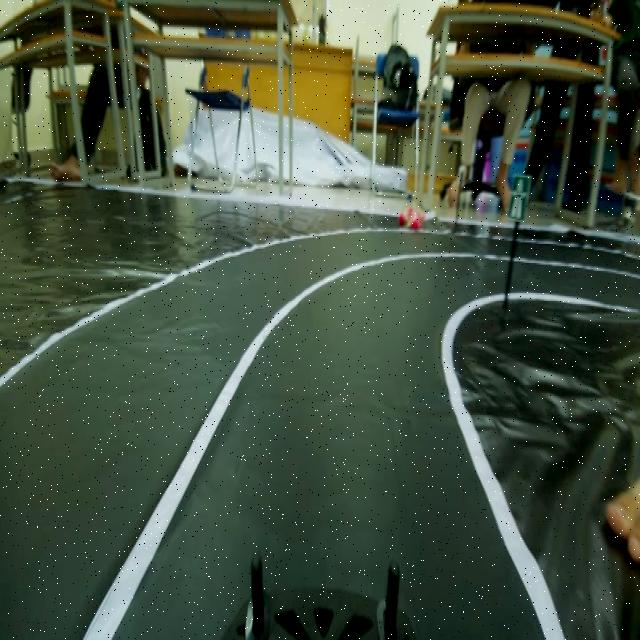highway_entry: (506, 168, 528, 226)
